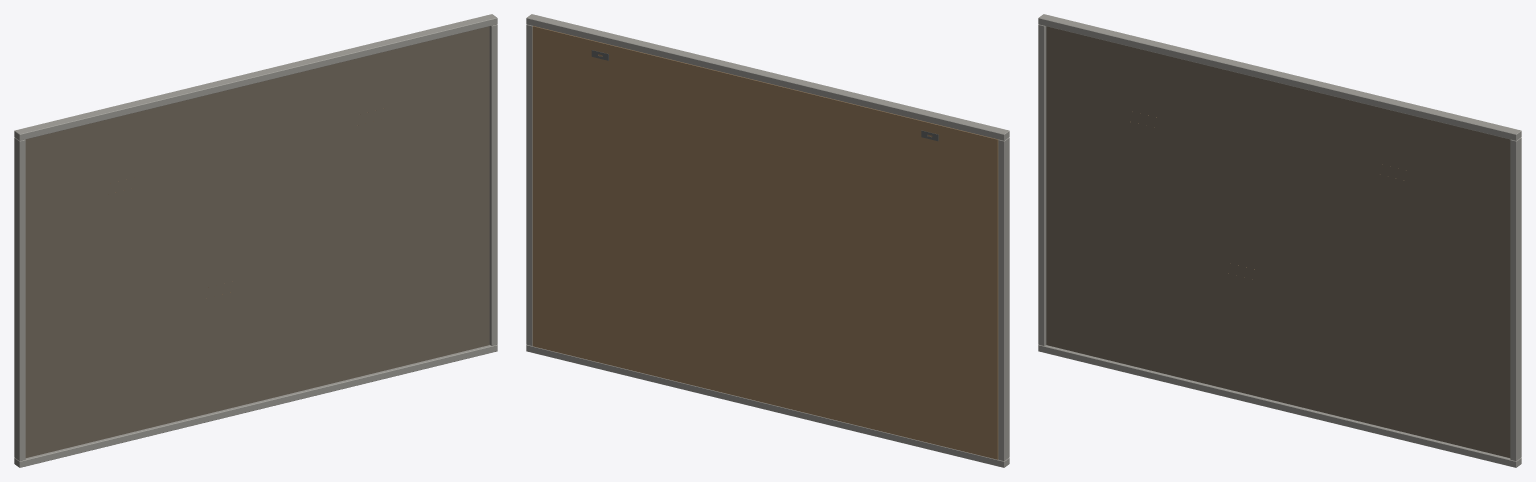
Rendered from corkboard-bc0d8c6314f7.glb.
3 renders of one model, left to right at view 1: azimuth 30°, elevation 25°; view 2: azimuth 150°, elevation 25°; view 3: azimuth 330°, elevation 25°, orthographic.
Parts seen in each view (by area): view 1: cover-print, brushed; view 2: paper-kraft, brushed; view 3: cover-print, brushed.
Part boxes in pixels (x1=…): cover-print: x1=25, y1=26, x2=489, y2=457; brushed: x1=14, y1=14, x2=497, y2=467; paper-kraft: x1=532, y1=26, x2=998, y2=459; brushed: x1=526, y1=14, x2=1009, y2=467; cover-print: x1=1046, y1=26, x2=1510, y2=457; brushed: x1=1038, y1=14, x2=1521, y2=467.
Bounding box in the file's own units: 0.9 × 0.6 × 0.0186.
